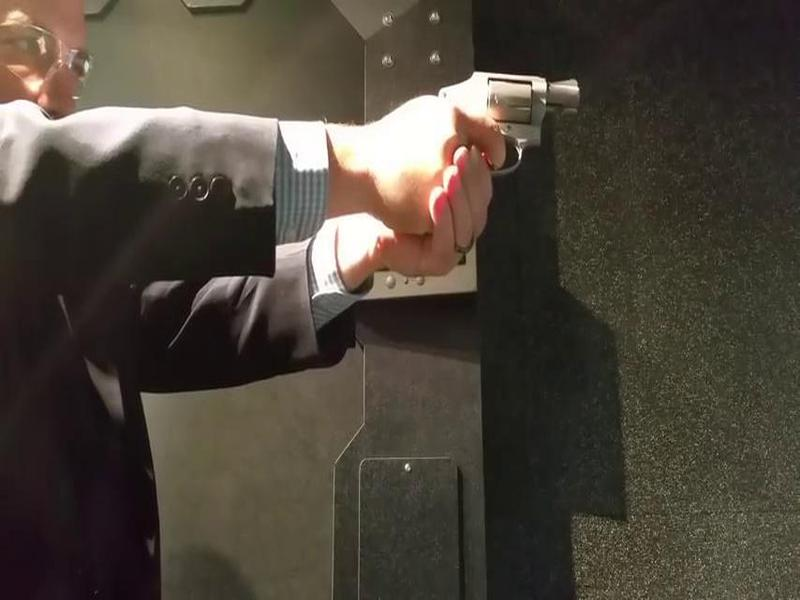Revolver: (428, 61, 593, 182)
